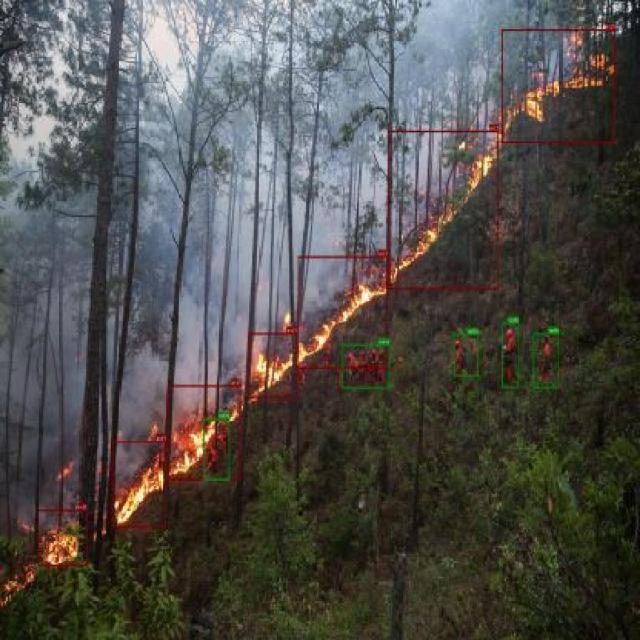Fire: (388, 130, 499, 290), (502, 29, 616, 143), (297, 256, 388, 369), (168, 384, 242, 480), (112, 440, 166, 528), (249, 333, 297, 398), (38, 509, 88, 566)
